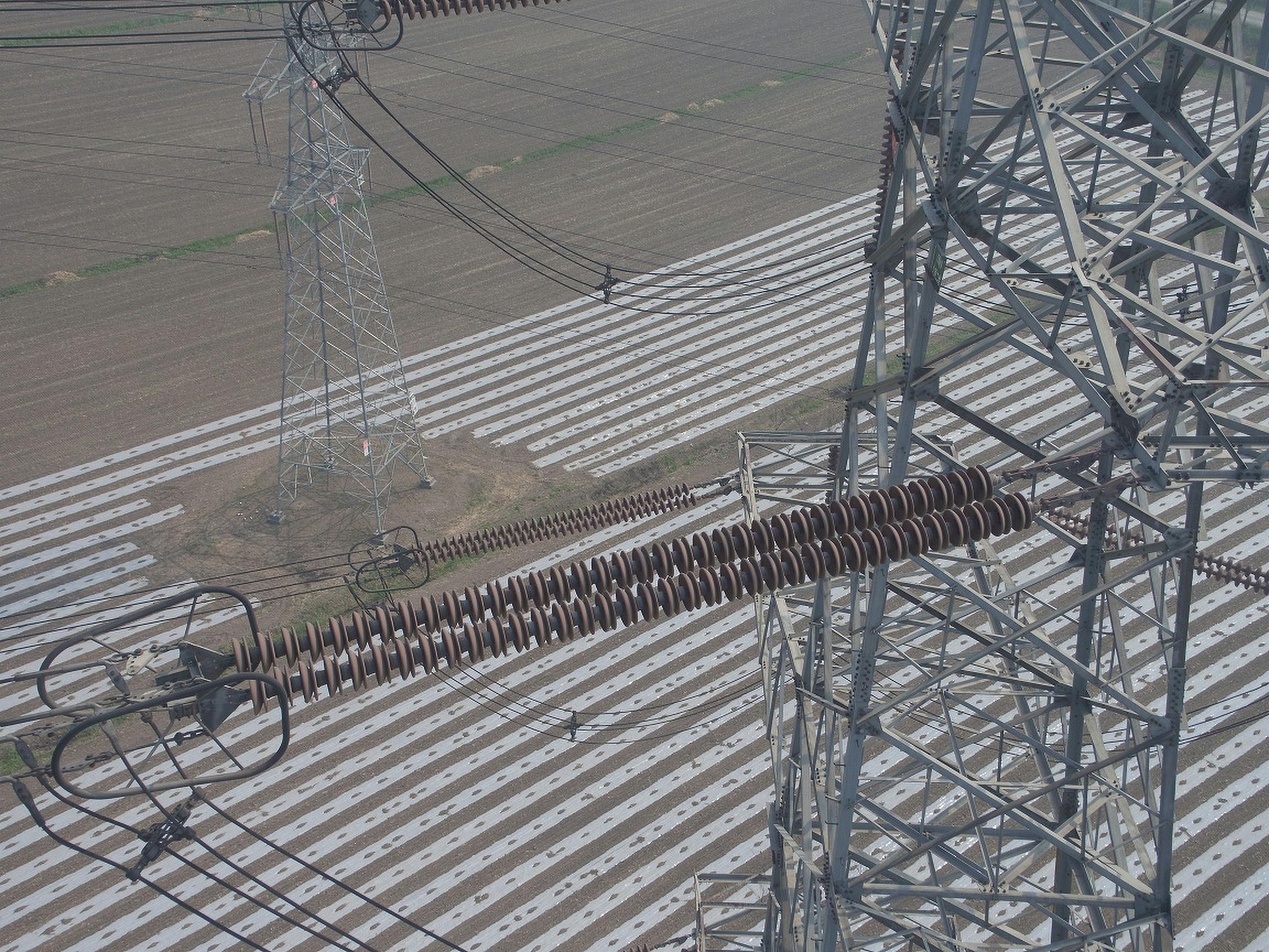insulator: (226, 461, 1037, 717), (409, 482, 699, 569), (1045, 503, 1269, 598)
